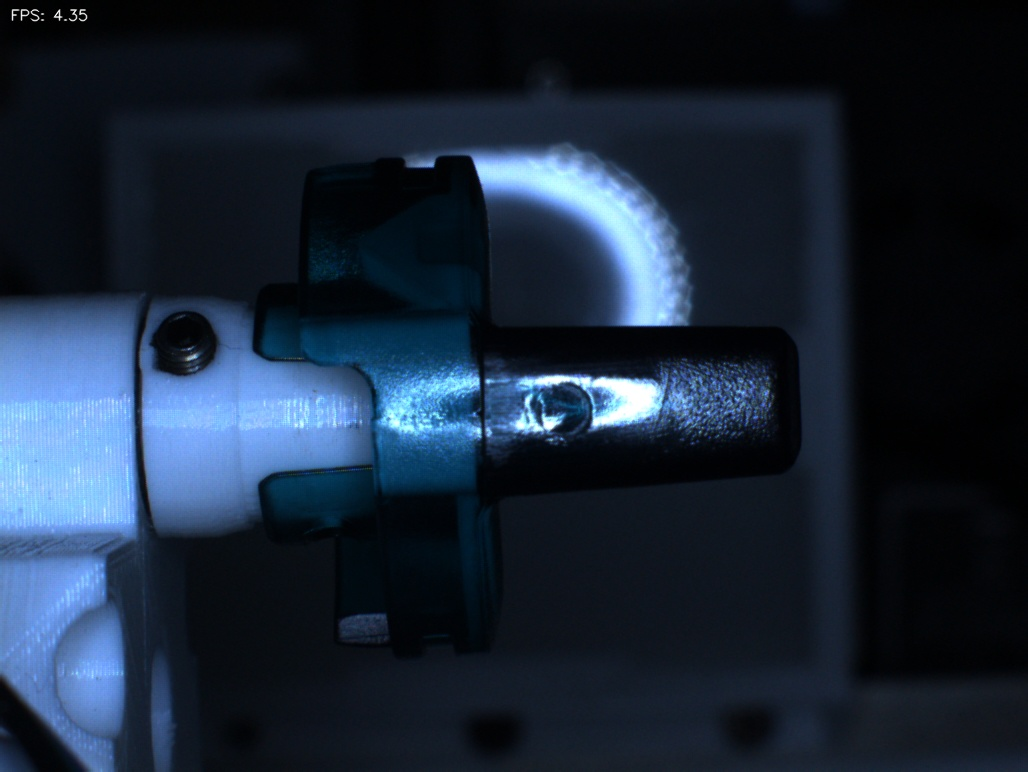DentOk: (327, 206, 406, 292)
